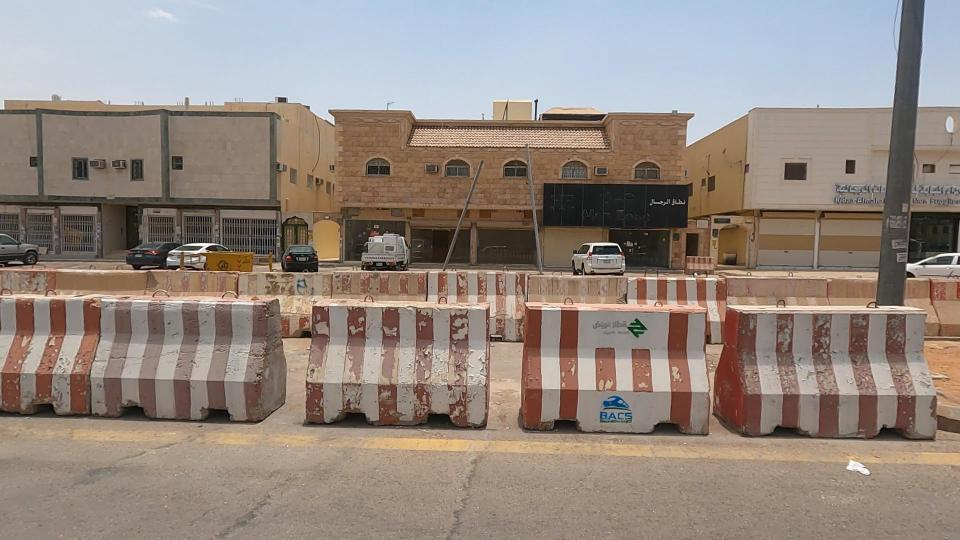BAD_BILLBOARD: (479, 150, 715, 259)
GARBAGE: (803, 427, 908, 510)
